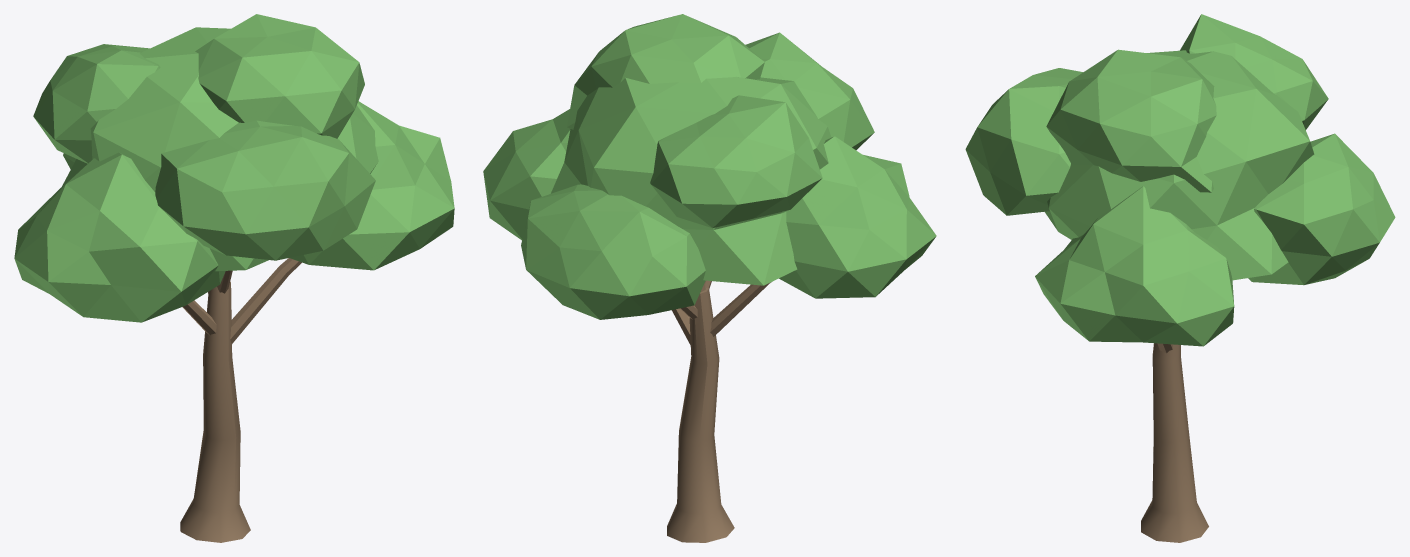
The model's file is Tree_A.fbx.
3 views of the same model, side by side, from view 1: azimuth 30°, elevation 25°; view 2: azimuth 150°, elevation 25°; view 3: azimuth 270°, elevation 25° (orthographic). The views are drawn at different scales.
Visible parts, largest first — view 1: Tree_A; view 2: Tree_A; view 3: Tree_A.
Part boxes in pixels (x1,y1,x2,y2): Tree_A: (14, 14, 454, 542); Tree_A: (483, 14, 936, 542); Tree_A: (965, 14, 1395, 542).
Bounding box in the file's own units: 6.29 × 6.9 × 5.62.
